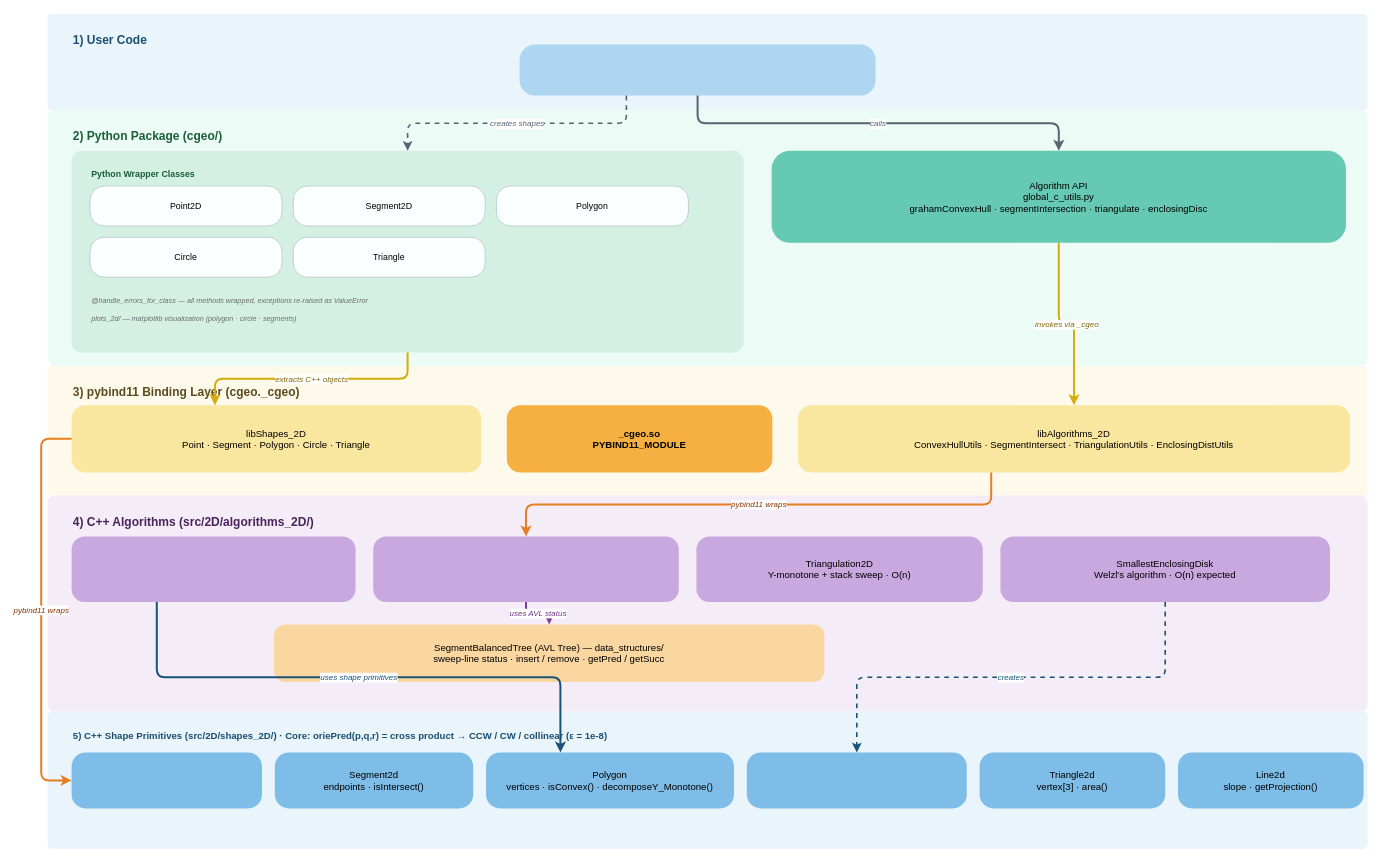
The diagram is 1382 pixels wide and 862 high, and some of its shapes have lost their labels. The shapes that lost their labels are listed below. From the top down, each one's centre as x and y in pixels, then its label:
At point (697, 69): "User Application Python script · Jupyter notebook · import cgeo".
At point (213, 569): "ConvexHull2D Graham scan · O(n log n)".
At point (525, 569): "SegmentIntersection2D Bentley-Ottmann · O((n+k) log n)".
At point (166, 780): "Point2d x, y · oriePred()".
At point (856, 780): "Circle2d r · center · circleFrom3Points()".
